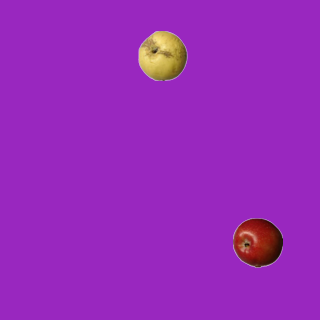Apple Braeburn: (232, 217, 282, 267)
Apple Golden 1: (137, 30, 187, 80)
